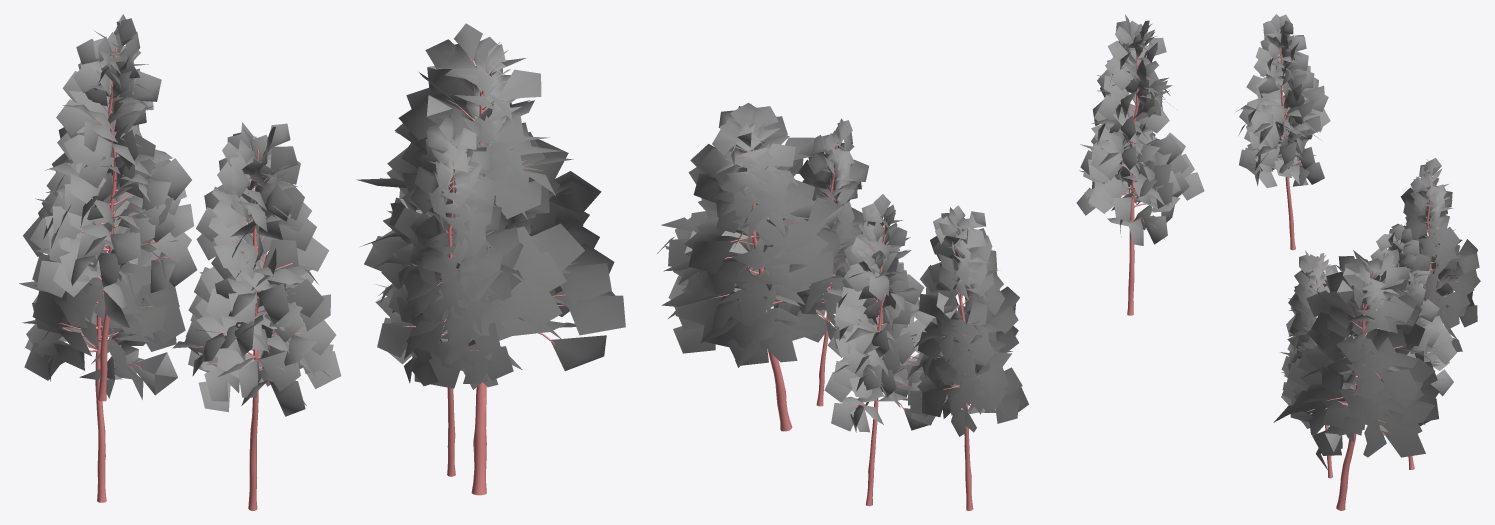
File: Woods_Dawn_Trees_16.gltf
The picture shows the model from 3 angles, left to right: view 1: azimuth 30°, elevation 25°; view 2: azimuth 150°, elevation 25°; view 3: azimuth 270°, elevation 25°; orthographic projection. The views are drawn at different scales.
Parts seen in each view (by area): view 1: Woods_Dawn_Trees_16; view 2: Woods_Dawn_Trees_16; view 3: Woods_Dawn_Trees_16.
Boxes of the visible parts, x1=… form: Woods_Dawn_Trees_16: x1=19, y1=14, x2=625, y2=510; Woods_Dawn_Trees_16: x1=657, y1=14, x2=1204, y2=510; Woods_Dawn_Trees_16: x1=1236, y1=14, x2=1480, y2=510.
Size of the model in its own units: 141 by 135 by 79.45.
